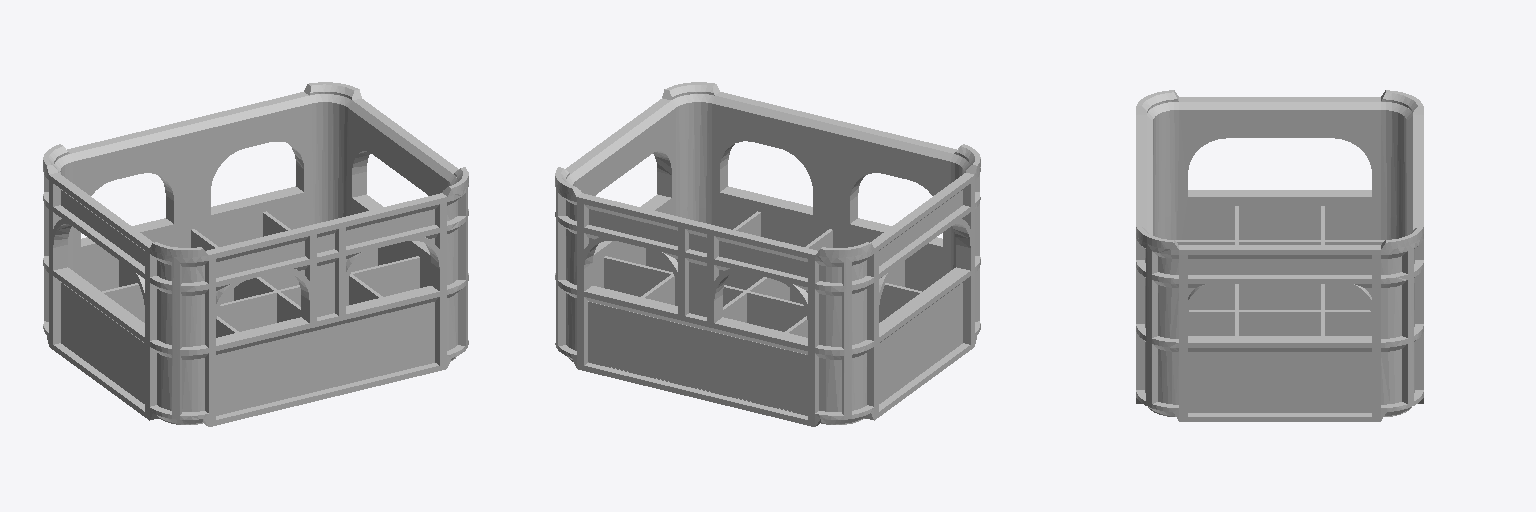
File: duffcasefixed.obj
3 views of the same model, side by side, from view 1: azimuth 30°, elevation 25°; view 2: azimuth 150°, elevation 25°; view 3: azimuth 270°, elevation 25° (orthographic).
Visible parts, largest first — view 1: model_1; view 2: model_1; view 3: model_1.
Part boxes in pixels (x1,y1,x2,y2): model_1: (43,82,468,426); model_1: (555,82,980,426); model_1: (1136,90,1423,421).
Bounding box in the file's own units: 4.48 × 2.45 × 3.57.